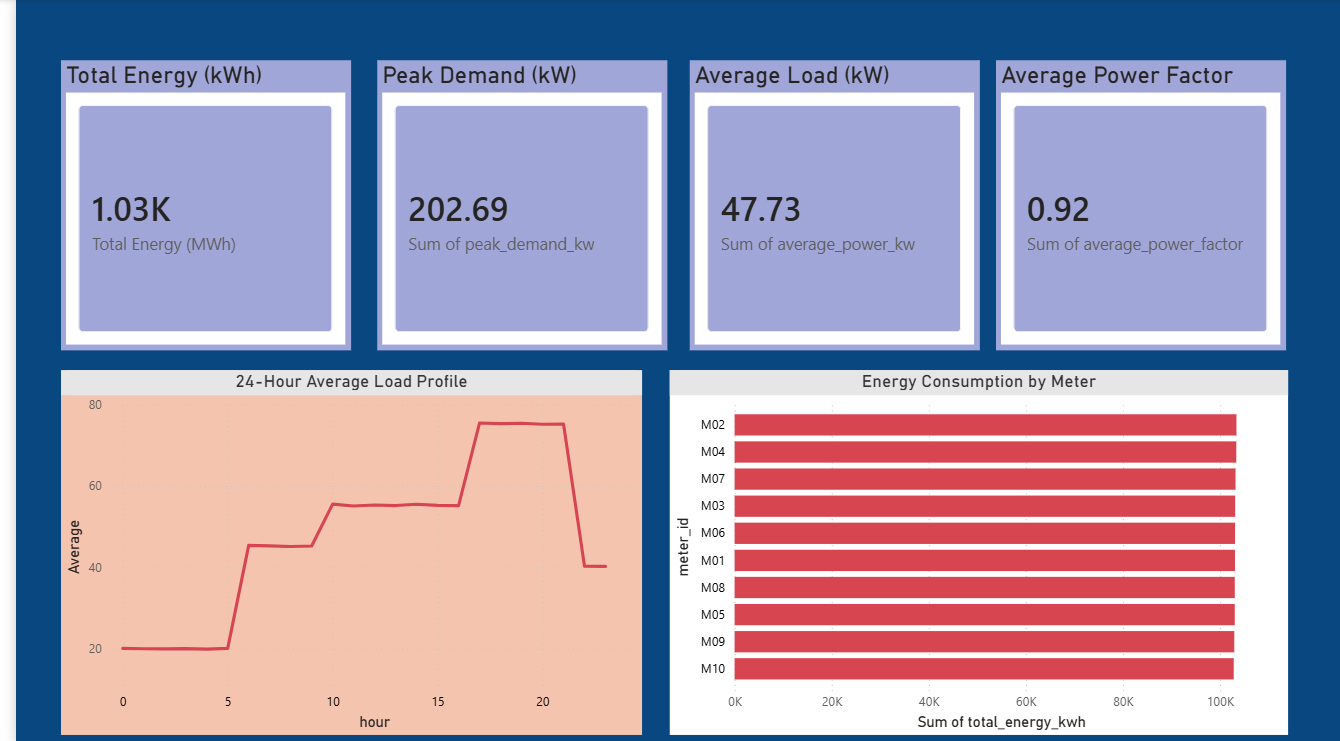

The page's visual inventory and layout, read from the dashboard file:
{"tool":"powerbi","page":{"name":"Executive Energy Overview","canvas":[1280,720],"ordinal":0},"visuals":[{"type":"cardVisual","title":"Total Energy (kWh)","fields":{"Data":["anomalies.Total Energy (MWh)"]},"box":[43.9,59,279.9,279.9],"z":0},{"type":"cardVisual","title":"Peak Demand (kW)","fields":{"Data":["Sum(executive_summary.peak_demand_kw)"]},"box":[348.7,59.1,279.9,279.9],"z":1},{"type":"cardVisual","title":"Average Load (kW)","fields":{"Data":["Sum(executive_summary.average_power_kw)"]},"box":[650.4,59,279.9,279.9],"z":2},{"type":"cardVisual","title":"Average Power Factor","fields":{"Data":["Sum(executive_summary.average_power_factor)"]},"box":[945.8,59.1,279.9,279.9],"z":3},{"type":"lineChart","title":"24-Hour Average Load Profile","fields":{"Category":["hourly_load.hour"],"Y":["Sum(hourly_load.average_load_kw)"]},"box":[43.4,358.3,561,352.3],"z":4},{"type":"clusteredBarChart","title":"Energy Consumption by Meter","fields":{"Y":["Sum(meter_performance.total_energy_kwh)"],"Category":["meter_performance.meter_id"]},"box":[631,358.3,597.2,352.3],"z":5}]}

Visuals, with their boxes in screenshot pixels (x1, y1, x2, y2), scaled from the page's 1280x720 canvas onto the 1340x741 screenshot:
"Total Energy (kWh)" cardVisual: Rect(46, 61, 339, 349)
"Peak Demand (kW)" cardVisual: Rect(365, 61, 658, 349)
"Average Load (kW)" cardVisual: Rect(681, 61, 974, 349)
"Average Power Factor" cardVisual: Rect(990, 61, 1283, 349)
"24-Hour Average Load Profile" lineChart: Rect(45, 369, 633, 731)
"Energy Consumption by Meter" clusteredBarChart: Rect(661, 369, 1286, 731)
